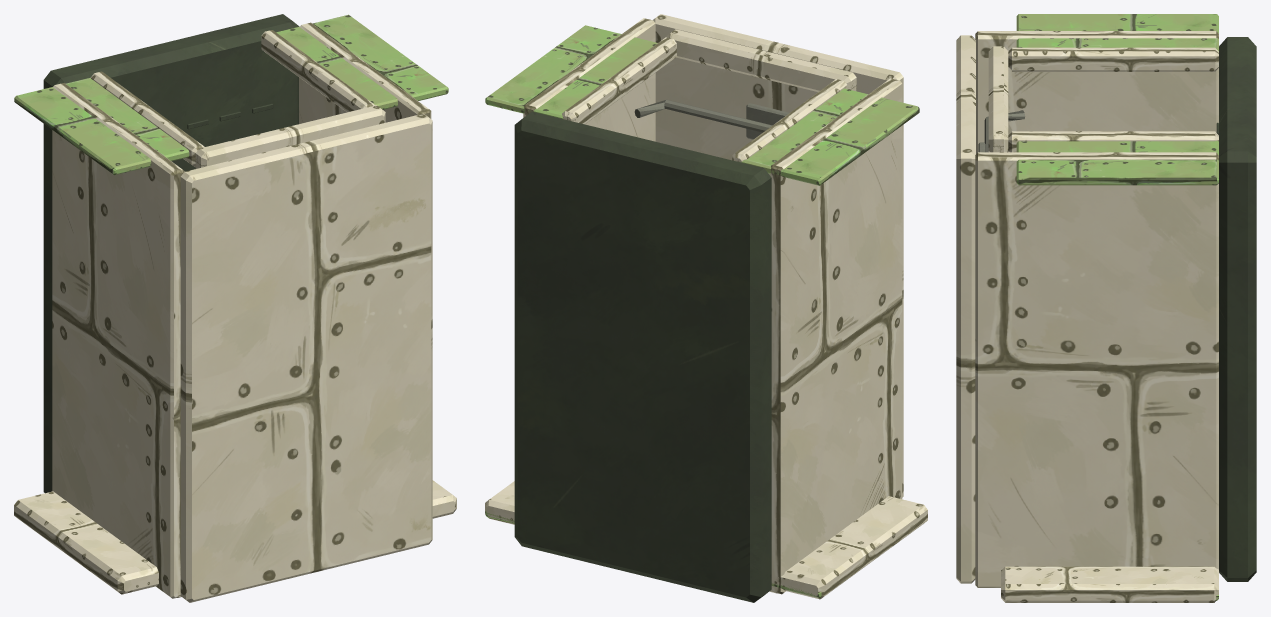
Rendered from ECHO7_13_Esclusa_Intermedia.obj.
3 renders of one model, left to right at view 1: azimuth 30°, elevation 25°; view 2: azimuth 150°, elevation 25°; view 3: azimuth 270°, elevation 25°, orthographic.
Visible parts, largest first — view 1: ECHO7_13_Esclusa_Intermedia__Techo_camara_01, ECHO7_13_Esclusa_Intermedia__Pared_lateral_camara_01, ECHO7_13_Esclusa_Intermedia__Suelo_camara_01, ECHO7_13_Esclusa_Intermedia__Hoja_puerta_aparcada_03, ECHO7_13_Esclusa_Intermedia__Casete_puerta_exterior_01, ECHO7_13_Esclusa_Intermedia__Hoja_puerta_aparcada_04, ECHO7_13_Esclusa_Intermedia__Dintel_puerta_02, ECHO7_13_Esclusa_Intermedia__Pared_lateral_camara_02, ECHO7_13_Esclusa_Intermedia__Jamba_puerta_04, ECHO7_13_Esclusa_Intermedia__Jamba_puerta_03, ECHO7_13_Esclusa_Intermedia__Casete_puerta_exterior_02; view 2: ECHO7_13_Esclusa_Intermedia__Suelo_camara_01, ECHO7_13_Esclusa_Intermedia__Pared_lateral_camara_01, ECHO7_13_Esclusa_Intermedia__Techo_camara_01, ECHO7_13_Esclusa_Intermedia__Hoja_puerta_aparcada_03, ECHO7_13_Esclusa_Intermedia__Casete_puerta_exterior_01, ECHO7_13_Esclusa_Intermedia__Hoja_puerta_aparcada_04, ECHO7_13_Esclusa_Intermedia__Dintel_puerta_02, ECHO7_13_Esclusa_Intermedia__Pared_lateral_camara_02, ECHO7_13_Esclusa_Intermedia__Jamba_puerta_04, ECHO7_13_Esclusa_Intermedia__Jamba_puerta_03, ECHO7_13_Esclusa_Intermedia__Costilla_camara_01, ECHO7_13_Esclusa_Intermedia__Casete_puerta_exterior_02 (+1 smaller); view 3: ECHO7_13_Esclusa_Intermedia__Pared_lateral_camara_02, ECHO7_13_Esclusa_Intermedia__Suelo_camara_01, ECHO7_13_Esclusa_Intermedia__Pared_lateral_camara_01, ECHO7_13_Esclusa_Intermedia__Techo_camara_01, ECHO7_13_Esclusa_Intermedia__Casete_puerta_exterior_02, ECHO7_13_Esclusa_Intermedia__Hoja_puerta_aparcada_04, ECHO7_13_Esclusa_Intermedia__Hoja_puerta_aparcada_03, ECHO7_13_Esclusa_Intermedia__Jamba_puerta_03, ECHO7_13_Esclusa_Intermedia__Jamba_puerta_04, ECHO7_13_Esclusa_Intermedia__Dintel_puerta_02.
Part boxes in pixels (left/top/right/bottom): ECHO7_13_Esclusa_Intermedia__Techo_camara_01: left=180, top=113, right=432, bottom=602; ECHO7_13_Esclusa_Intermedia__Pared_lateral_camara_01: left=52, top=83, right=184, bottom=598; ECHO7_13_Esclusa_Intermedia__Suelo_camara_01: left=43, top=14, right=299, bottom=493; ECHO7_13_Esclusa_Intermedia__Hoja_puerta_aparcada_03: left=14, top=77, right=189, bottom=175; ECHO7_13_Esclusa_Intermedia__Casete_puerta_exterior_01: left=14, top=491, right=158, bottom=594; ECHO7_13_Esclusa_Intermedia__Hoja_puerta_aparcada_04: left=276, top=14, right=448, bottom=109; ECHO7_13_Esclusa_Intermedia__Dintel_puerta_02: left=195, top=105, right=385, bottom=168; ECHO7_13_Esclusa_Intermedia__Pared_lateral_camara_02: left=299, top=22, right=431, bottom=123; ECHO7_13_Esclusa_Intermedia__Jamba_puerta_04: left=261, top=30, right=375, bottom=112; ECHO7_13_Esclusa_Intermedia__Jamba_puerta_03: left=91, top=71, right=204, bottom=166; ECHO7_13_Esclusa_Intermedia__Casete_puerta_exterior_02: left=432, top=480, right=456, bottom=518; ECHO7_13_Esclusa_Intermedia__Suelo_camara_01: left=514, top=111, right=771, bottom=602; ECHO7_13_Esclusa_Intermedia__Pared_lateral_camara_01: left=770, top=78, right=902, bottom=594; ECHO7_13_Esclusa_Intermedia__Techo_camara_01: left=653, top=14, right=903, bottom=497; ECHO7_13_Esclusa_Intermedia__Hoja_puerta_aparcada_03: left=739, top=88, right=919, bottom=185; ECHO7_13_Esclusa_Intermedia__Casete_puerta_exterior_01: left=771, top=496, right=927, bottom=599; ECHO7_13_Esclusa_Intermedia__Hoja_puerta_aparcada_04: left=485, top=25, right=657, bottom=119; ECHO7_13_Esclusa_Intermedia__Dintel_puerta_02: left=666, top=29, right=856, bottom=91; ECHO7_13_Esclusa_Intermedia__Pared_lateral_camara_02: left=523, top=18, right=655, bottom=141; ECHO7_13_Esclusa_Intermedia__Jamba_puerta_04: left=562, top=37, right=676, bottom=124; ECHO7_13_Esclusa_Intermedia__Jamba_puerta_03: left=732, top=79, right=847, bottom=162; ECHO7_13_Esclusa_Intermedia__Costilla_camara_01: left=634, top=99, right=772, bottom=132; ECHO7_13_Esclusa_Intermedia__Casete_puerta_exterior_02: left=485, top=481, right=514, bottom=524; ECHO7_13_Esclusa_Intermedia__Pared_lateral_camara_02: left=975, top=152, right=1218, bottom=587; ECHO7_13_Esclusa_Intermedia__Suelo_camara_01: left=1219, top=37, right=1256, bottom=581; ECHO7_13_Esclusa_Intermedia__Pared_lateral_camara_01: left=975, top=31, right=1218, bottom=153; ECHO7_13_Esclusa_Intermedia__Techo_camara_01: left=956, top=35, right=975, bottom=583; ECHO7_13_Esclusa_Intermedia__Casete_puerta_exterior_02: left=1001, top=566, right=1218, bottom=602; ECHO7_13_Esclusa_Intermedia__Hoja_puerta_aparcada_04: left=1016, top=140, right=1218, bottom=185; ECHO7_13_Esclusa_Intermedia__Hoja_puerta_aparcada_03: left=1016, top=14, right=1218, bottom=51; ECHO7_13_Esclusa_Intermedia__Jamba_puerta_03: left=1008, top=47, right=1218, bottom=71; ECHO7_13_Esclusa_Intermedia__Jamba_puerta_04: left=1008, top=131, right=1218, bottom=152; ECHO7_13_Esclusa_Intermedia__Dintel_puerta_02: left=988, top=46, right=1008, bottom=152.
Bounding box in the file's own units: 5.25 × 6.55 × 3.99.
Materials: 6 (6 with a texture image).
